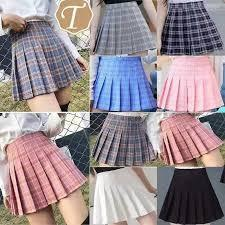skirt: (6, 132, 87, 218), (9, 19, 85, 102), (157, 56, 225, 113), (157, 168, 224, 225), (93, 169, 156, 225), (159, 112, 224, 165), (92, 56, 154, 111), (92, 4, 158, 55), (92, 113, 156, 165), (163, 2, 224, 55)
